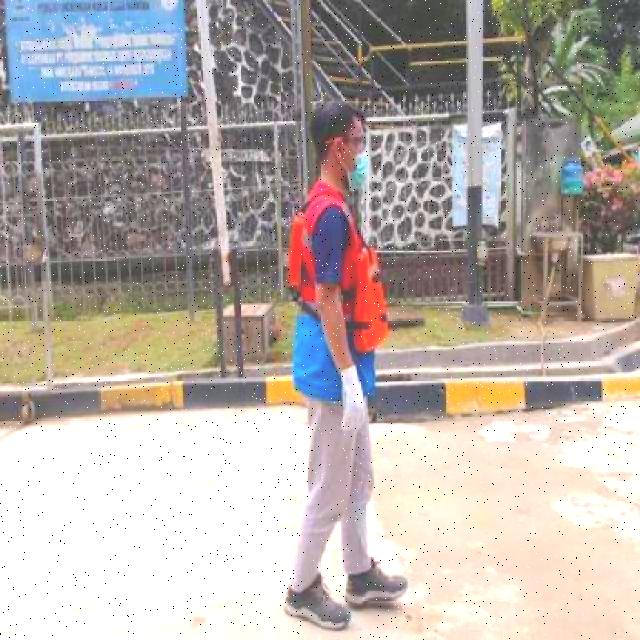Boots: (283, 570, 352, 632), (344, 556, 410, 610)
Gloves: (338, 364, 366, 434)
Mask: (285, 211, 390, 354)
